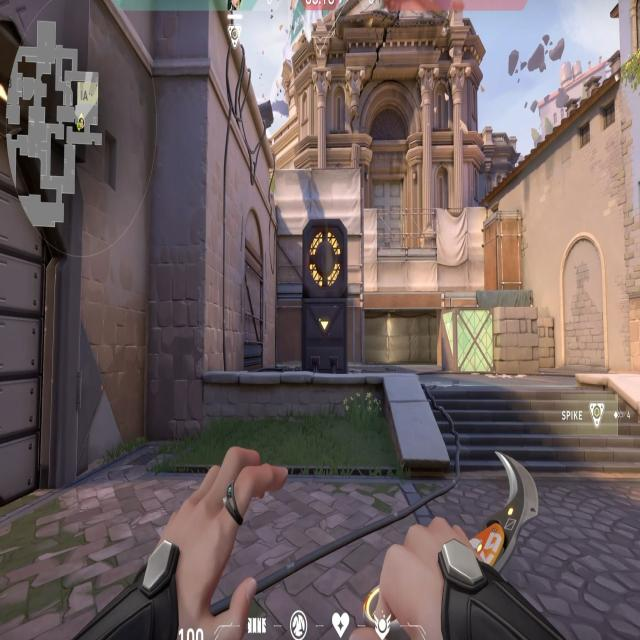A_Heaven_Box: (479, 205, 529, 294)
A_Heaven_Wall: (304, 153, 371, 291)
A_Hell: (357, 279, 446, 372)
A_Site_Box: (438, 301, 544, 379)
